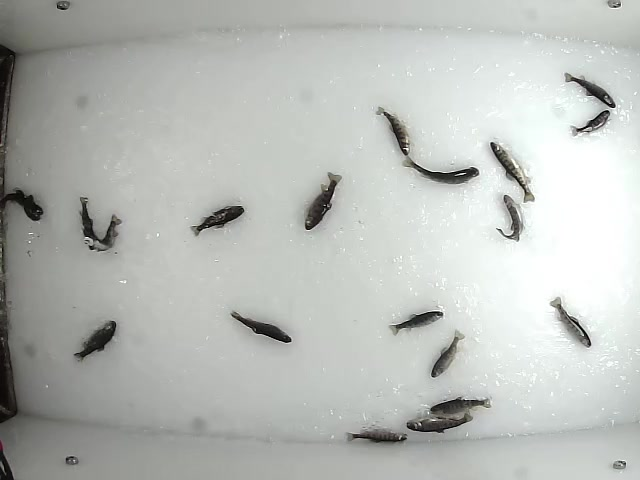fish: (487, 139, 537, 203), (301, 168, 343, 232), (397, 154, 482, 185), (547, 293, 592, 349), (228, 308, 293, 344), (372, 104, 412, 158), (562, 71, 616, 110), (71, 318, 116, 362), (430, 328, 468, 379), (78, 196, 110, 251), (386, 309, 445, 338), (427, 394, 492, 419), (404, 410, 473, 433), (493, 193, 525, 242), (568, 107, 610, 136), (343, 427, 409, 445), (94, 213, 123, 253), (1, 191, 44, 215), (24, 194, 41, 222)
